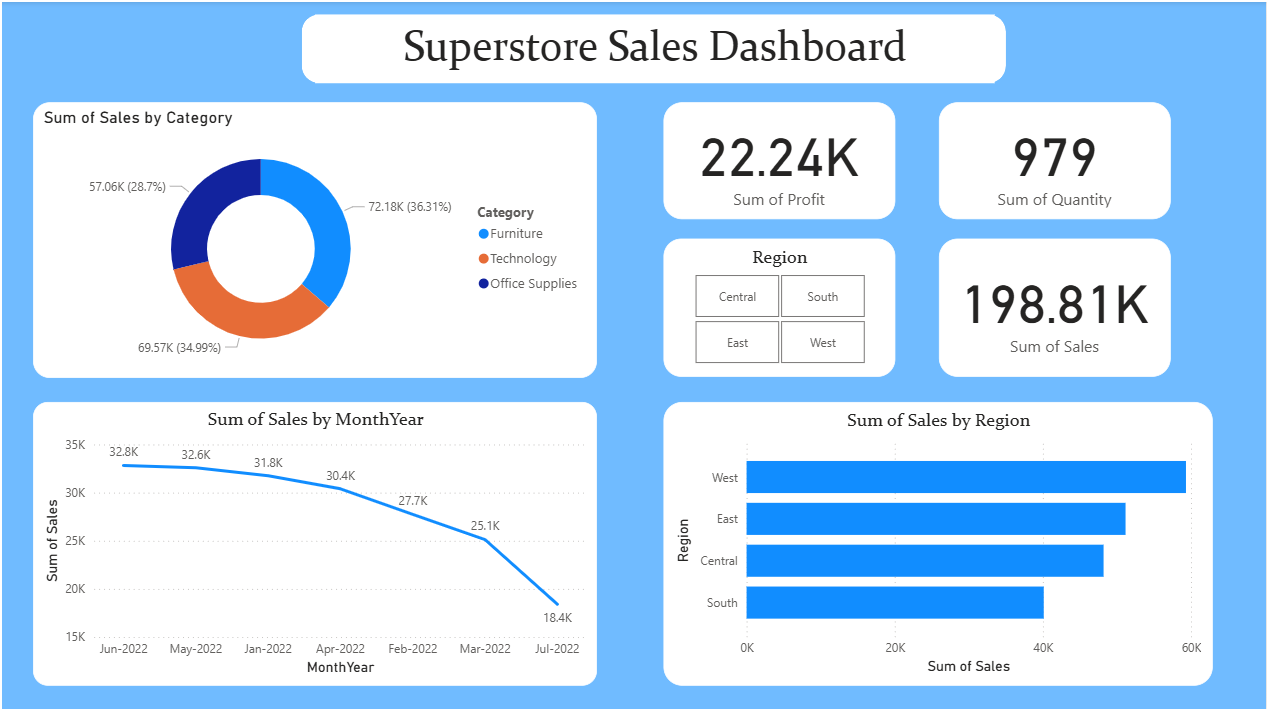

The dashboard page shown, as its layout file describes it:
{"tool":"powerbi","page":{"name":"Page 1","canvas":[1280,720],"ordinal":0},"visuals":[{"type":"lineChart","fields":{"Category":["Superstore_Sales.MonthYear"],"Y":["Sum(Superstore_Sales.Sales)"]},"box":[31.4,406.2,571.3,287.3],"z":0},{"type":"barChart","fields":{"Category":["Superstore_Sales.Region"],"Y":["Sum(Superstore_Sales.Sales)"]},"box":[670.3,406.2,556.4,287.3],"z":1},{"type":"donutChart","fields":{"Category":["Superstore_Sales.Category"],"Y":["Sum(Superstore_Sales.Sales)"]},"box":[31.4,102.4,571.3,279],"z":2},{"type":"slicer","title":"Region","fields":{"Values":["Superstore_Sales.Region"]},"box":[670.3,241.1,234.4,140.3],"z":3},{"type":"card","fields":{"Values":["Sum(Superstore_Sales.Sales)"]},"box":[949.4,241.1,234.4,140.3],"z":4},{"type":"card","fields":{"Values":["Sum(Superstore_Sales.Profit)"]},"box":[670.3,102.4,234.4,118.9],"z":5},{"type":"card","fields":{"Values":["Sum(Superstore_Sales.Quantity)"]},"box":[949.4,102.4,234.4,118.9],"z":6},{"type":"shape","box":[303.8,13.2,713.3,69.3],"z":7},{"type":"textbox","box":[317,13.2,688.5,69.3],"z":8}]}

Visuals, with their boxes in screenshot pixels (x1, y1, x2, y2), scaled from the page's 1280x720 canvas onto the 1269x711 screenshot:
lineChart - Superstore_Sales.MonthYear x Sum(Superstore_Sales.Sales): x1=31 y1=401 x2=598 y2=685
barChart - Superstore_Sales.Region x Sum(Superstore_Sales.Sales): x1=665 y1=401 x2=1216 y2=685
donutChart - Superstore_Sales.Category x Sum(Superstore_Sales.Sales): x1=31 y1=101 x2=598 y2=377
"Region" slicer: x1=665 y1=238 x2=897 y2=377
card - Sum(Superstore_Sales.Sales): x1=941 y1=238 x2=1174 y2=377
card - Sum(Superstore_Sales.Profit): x1=665 y1=101 x2=897 y2=219
card - Sum(Superstore_Sales.Quantity): x1=941 y1=101 x2=1174 y2=219
shape: x1=301 y1=13 x2=1008 y2=81
textbox: x1=314 y1=13 x2=997 y2=81
